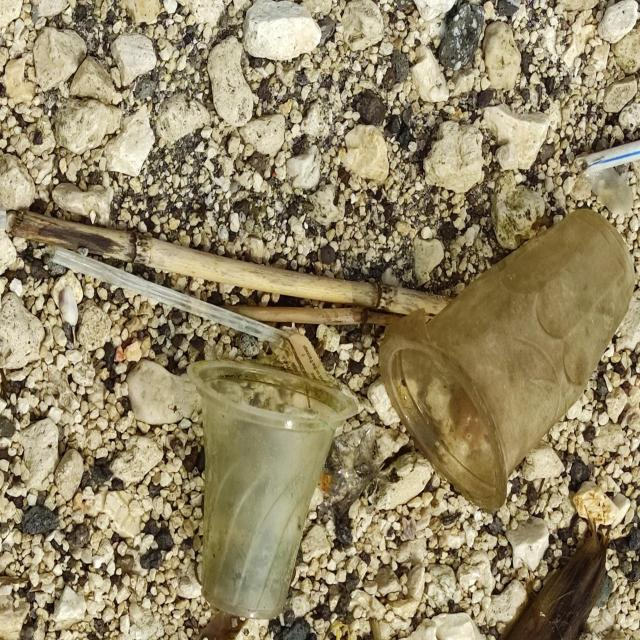plastic_waste: (378, 204, 638, 515), (186, 356, 360, 622), (49, 244, 289, 348), (575, 133, 640, 179)
